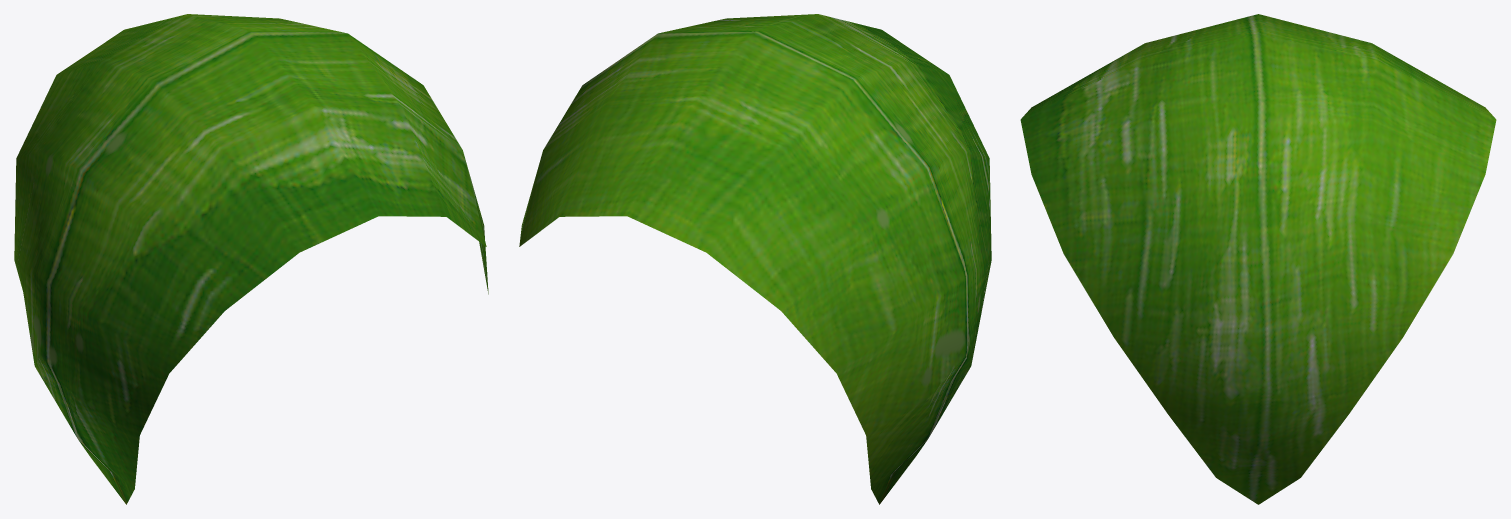
Rendered from glider.glb.
The picture shows the model from 3 angles, left to right: view 1: azimuth 30°, elevation 25°; view 2: azimuth 150°, elevation 25°; view 3: azimuth 270°, elevation 25°; orthographic projection. The views are drawn at different scales.
Visible parts, largest first — view 1: glider; view 2: glider; view 3: glider.
Part boxes in pixels (box(x1,y1,x2,y2)): glider: box(14, 14, 488, 504); glider: box(519, 14, 991, 504); glider: box(1020, 14, 1496, 504).
Size of the model in its own units: 1.22 by 1.22 by 1.28.
Materials: 1 (1 with a texture image).
